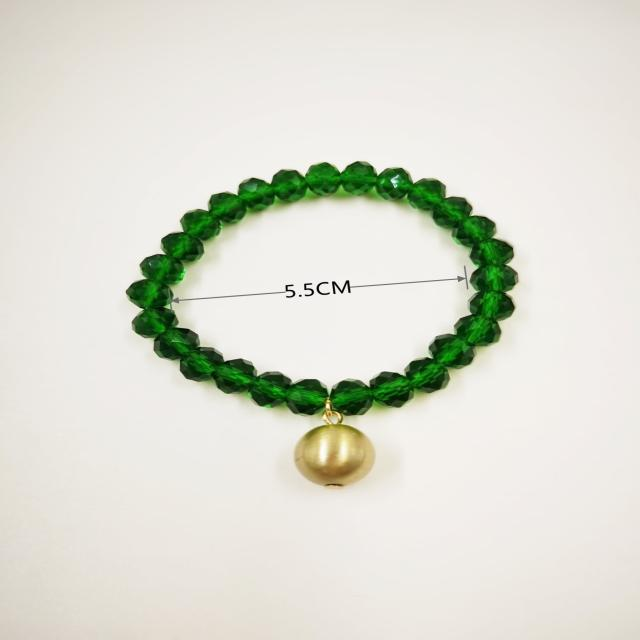bracelet: (67, 110, 575, 510)
